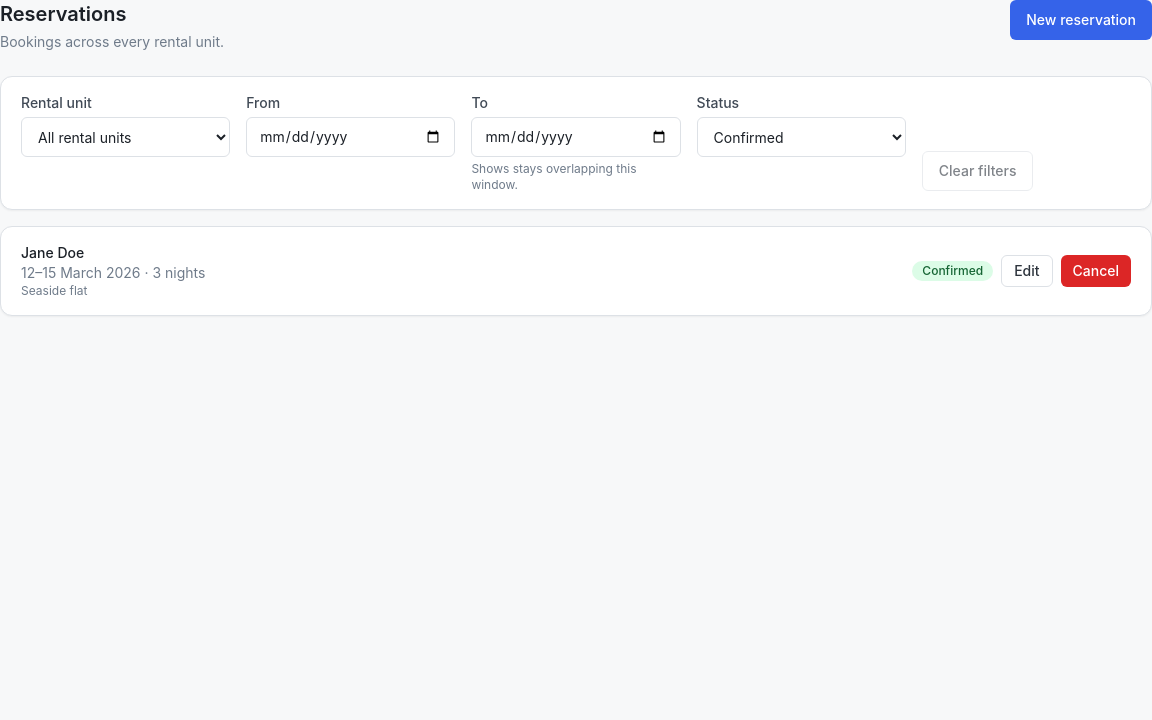
it: ReservationsPage — cancel › confirms before cancelling, naming the guest and dates
This screenshot has width=1152, height=720.
Expected: the text "Jane Doe" is shown, [21,244,84,261]
Click the button with aria-label "Cancel Jane Doe": coordinates (1096, 271) [1060,255,1131,287]
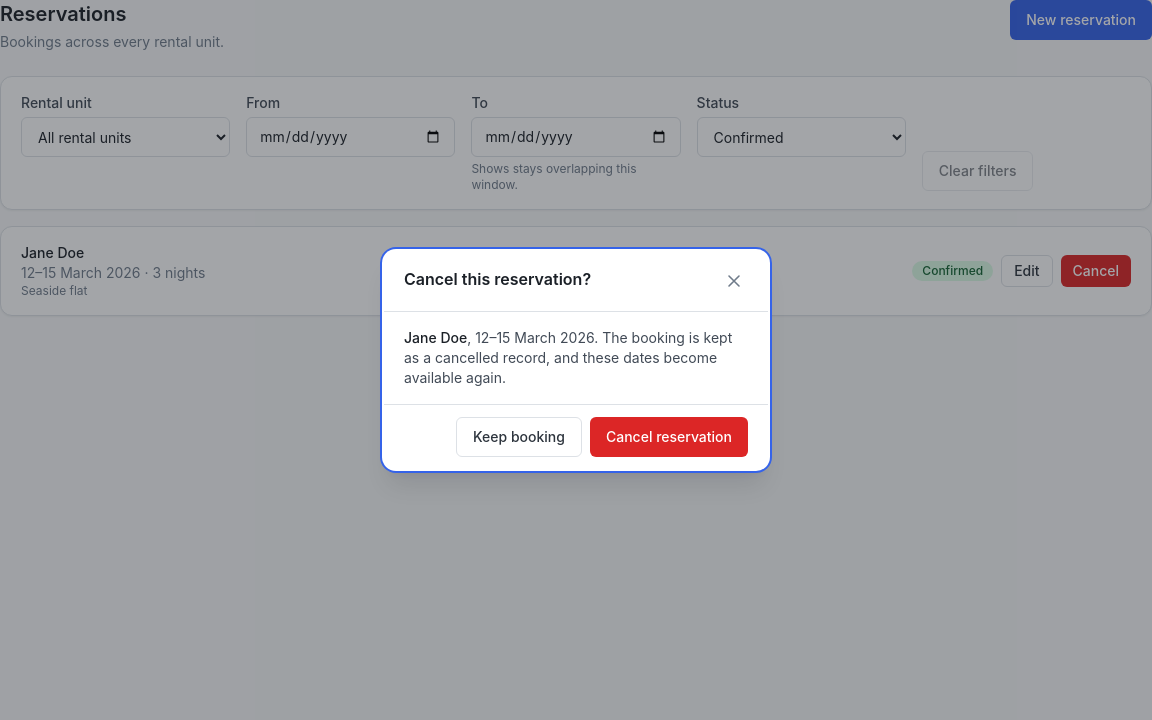
Now the dialog shows "Cancel this reservation?", box [404,269,591,289]
Now the dialog shows "12–15 March 2026", box [475,329,594,346]
